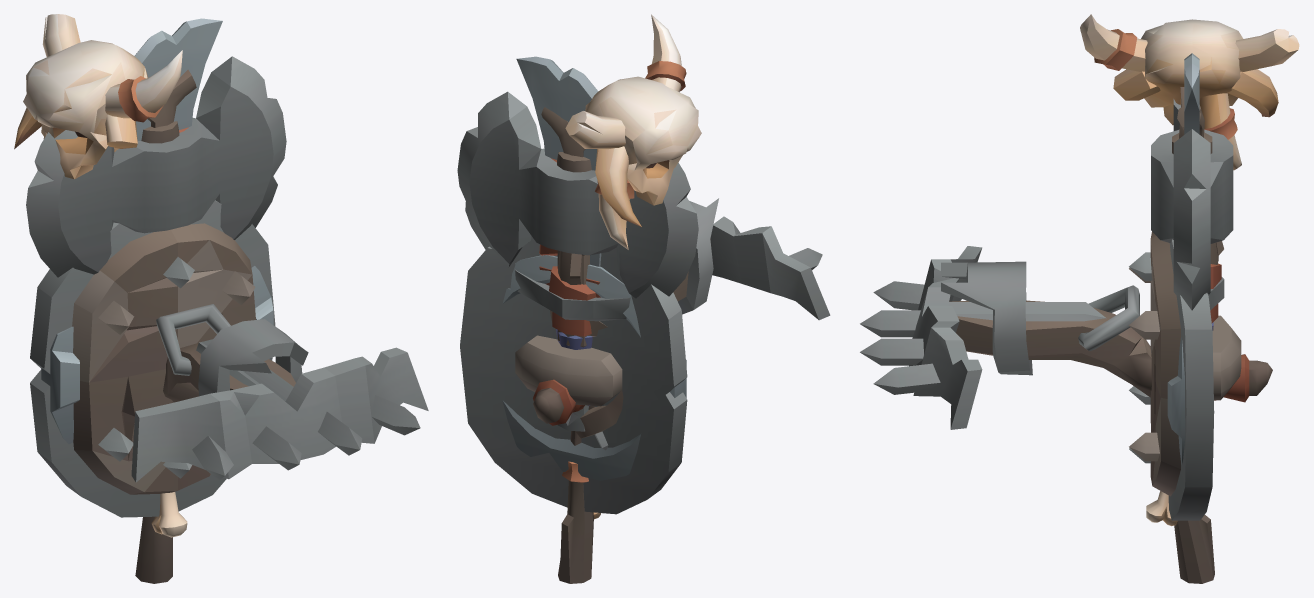
Rendered from weapons.glb.
3 views of the same model, side by side, from view 1: azimuth 30°, elevation 25°; view 2: azimuth 150°, elevation 25°; view 3: azimuth 270°, elevation 25° (orthographic). The views are drawn at different scales.
Parts seen in each view (by area): view 1: Skeleton_Shield_Large_B, Skeleton_Crossbow, Skeleton_Axe, Skeleton_Staff, Skeleton_Blade, Skeleton_Shield_Small_A; view 2: Skeleton_Shield_Large_B, Skeleton_Axe, Skeleton_Staff, Skeleton_Crossbow, Skeleton_Blade, Skeleton_Shield_Small_A; view 3: Skeleton_Crossbow, Skeleton_Staff, Skeleton_Shield_Large_B, Skeleton_Axe, Skeleton_Blade, Skeleton_Shield_Small_A.
Part boxes in pixels (x1,y1,x2,y2): Skeleton_Shield_Large_B: (30, 200, 275, 517); Skeleton_Crossbow: (131, 304, 428, 482); Skeleton_Axe: (26, 56, 286, 277); Skeleton_Staff: (14, 14, 196, 583); Skeleton_Blade: (134, 18, 222, 140); Skeleton_Shield_Small_A: (41, 266, 273, 444); Skeleton_Shield_Large_B: (460, 236, 687, 514); Skeleton_Axe: (457, 91, 698, 431); Skeleton_Staff: (541, 14, 701, 583); Skeleton_Crossbow: (533, 198, 830, 425); Skeleton_Blade: (515, 56, 630, 450); Skeleton_Shield_Small_A: (502, 255, 686, 480); Skeleton_Crossbow: (860, 246, 1272, 429); Skeleton_Staff: (1080, 14, 1299, 583); Skeleton_Shield_Large_B: (1129, 231, 1241, 520); Skeleton_Axe: (1151, 99, 1233, 330); Skeleton_Blade: (1184, 53, 1224, 310); Skeleton_Shield_Small_A: (1167, 337, 1185, 464).
Bounding box in the file's own units: 1.11 × 2.1 × 1.51.
Materials: 1 (1 with a texture image).
